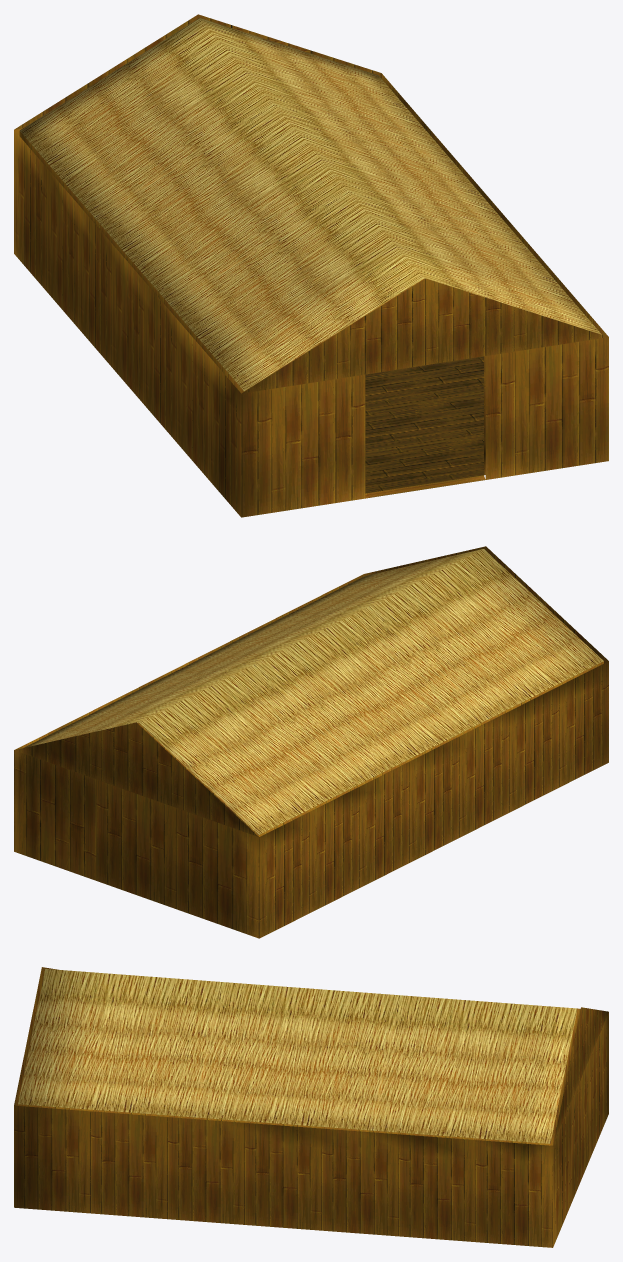
The model's file is HTOWN01_CHICKENCOOP.fbx.
The picture shows the model from 3 angles, top to bottom: view 1: azimuth 30°, elevation 25°; view 2: azimuth 150°, elevation 25°; view 3: azimuth 270°, elevation 25°; orthographic projection. The views are drawn at different scales.
Visible parts, largest first — view 1: HTOWN01_CHICKENCOOP; view 2: HTOWN01_CHICKENCOOP; view 3: HTOWN01_CHICKENCOOP.
Part boxes in pixels (box(x1,y1,x2,y2)): HTOWN01_CHICKENCOOP: box(14, 14, 608, 517); HTOWN01_CHICKENCOOP: box(14, 546, 608, 938); HTOWN01_CHICKENCOOP: box(14, 967, 608, 1247).
Bounding box in the file's own units: 77981 × 36261 × 112509.
3 materials, 3 textured.
